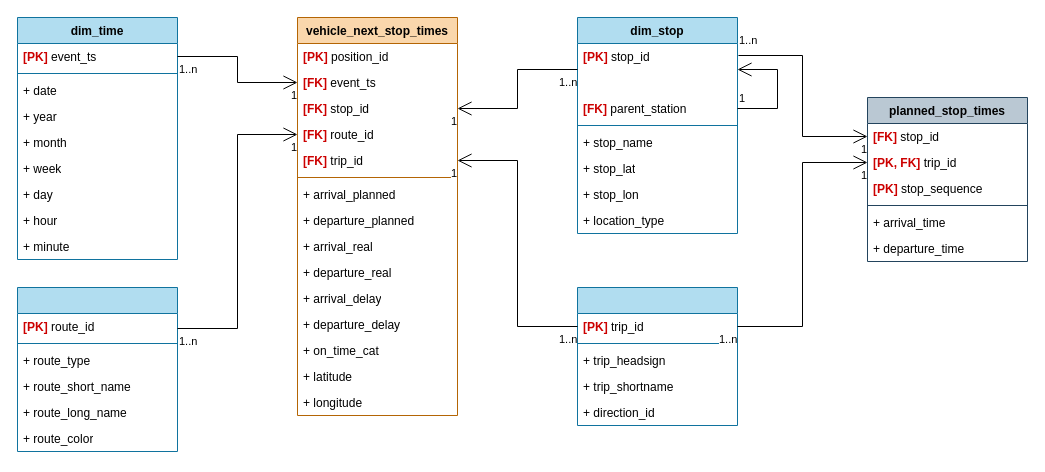
This 1045x472 diagram has some shape labels left out. The box of each missing label's shape, as (x1, y1, x2, y2) in pixels:
dim_route: (16, 286, 178, 452)
dim_trip: (576, 286, 738, 426)
